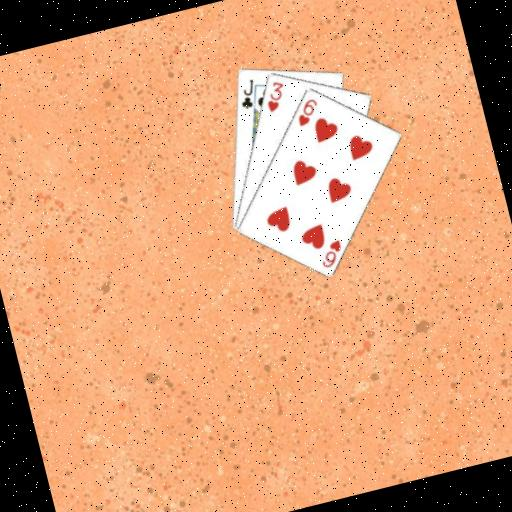3H: (259, 76, 291, 115)
6H: (314, 236, 348, 271), (290, 95, 323, 129)
JC: (232, 75, 261, 112)
